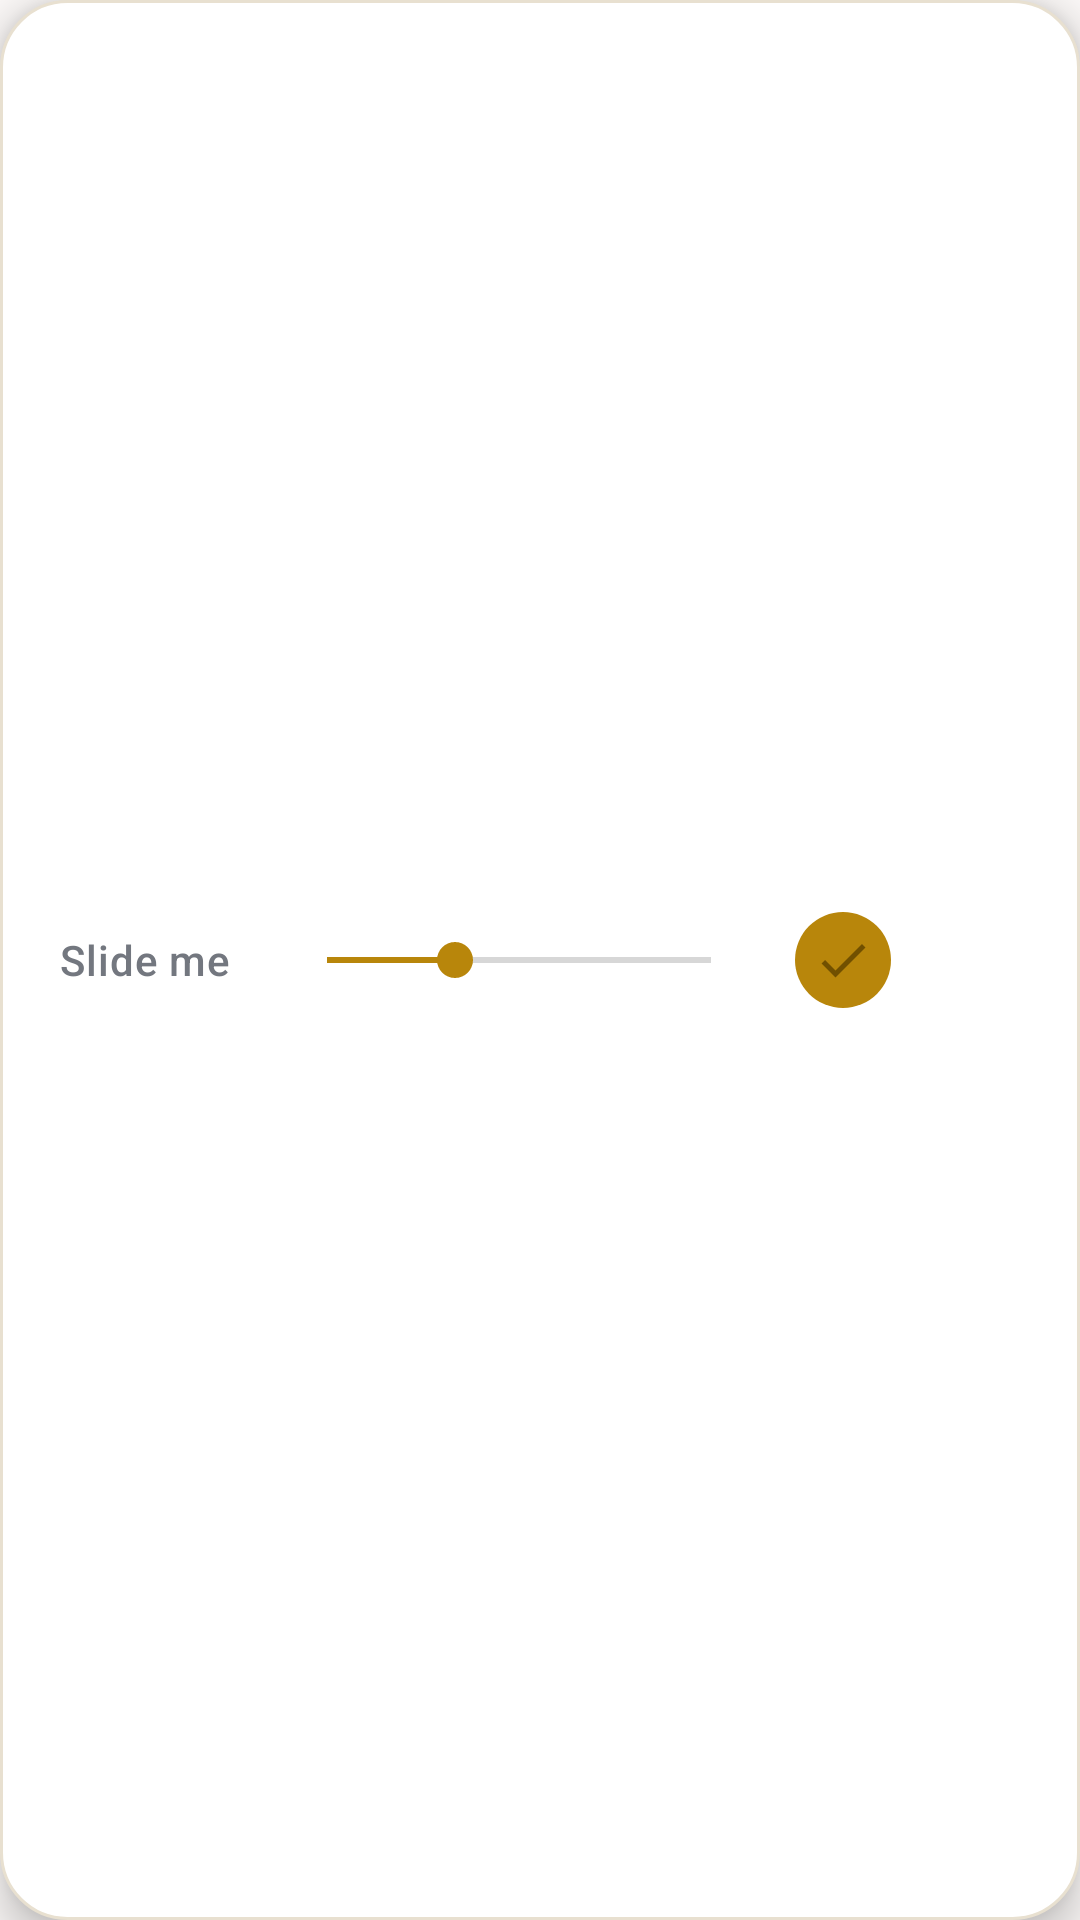

Named icons in this screenshot (1080x1920) and their bounding boxes, {"left": x1, "top": y1, "right": x2, "bottom": y2}:
Finish & Lock ✓: {"left": 795, "top": 912, "right": 891, "bottom": 1008}
